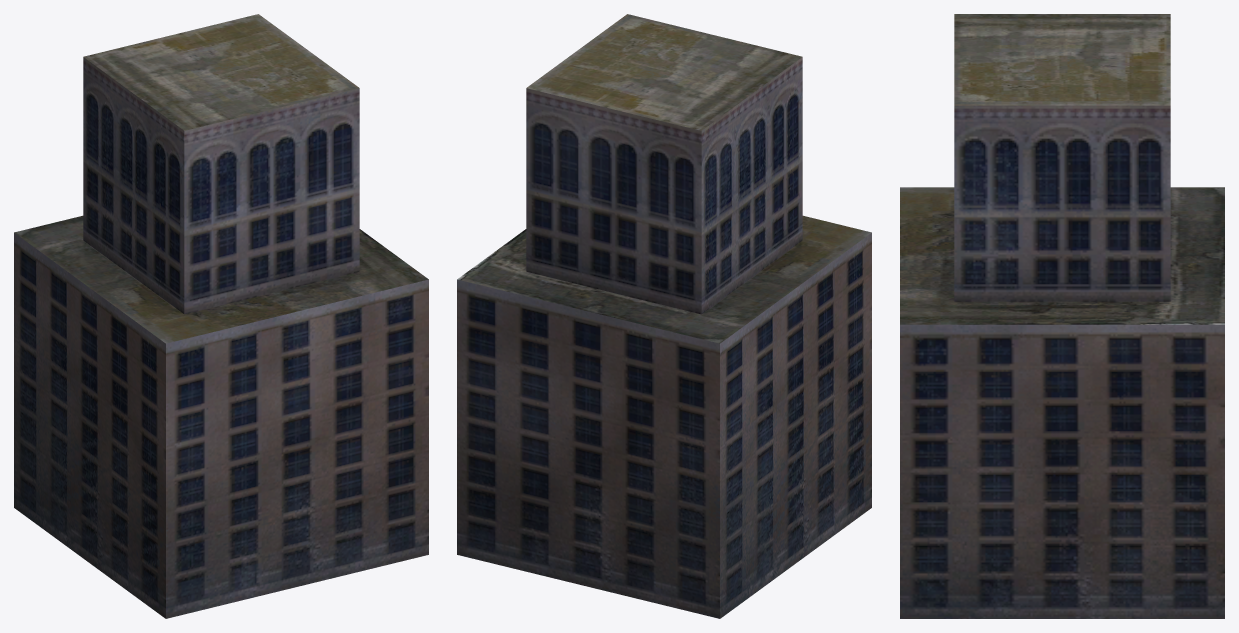
The model's file is Building4.gltf.
3 views of the same model, side by side, from view 1: azimuth 30°, elevation 25°; view 2: azimuth 150°, elevation 25°; view 3: azimuth 270°, elevation 25° (orthographic). The views are drawn at different scales.
Visible parts, largest first — view 1: Box10; view 2: Box10; view 3: Box10.
Part boxes in pixels (box(x1,y1,x2,y2)): Box10: box(14, 14, 428, 618); Box10: box(457, 14, 871, 618); Box10: box(900, 14, 1224, 618).
Size of the model in its own units: 15 by 25 by 15.
1 material, 1 textured.
